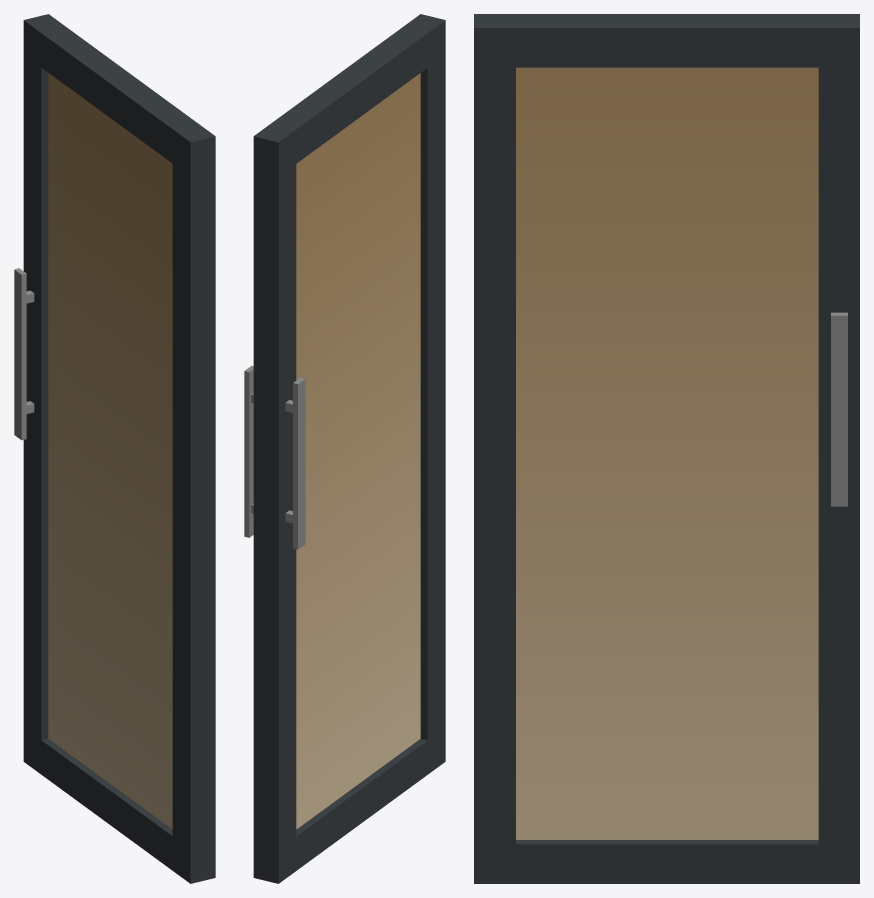
Rendered from SM_Buildings_CityMall_01_Door_R_02.fbx.
3 renders of one model, left to right at view 1: azimuth 30°, elevation 25°; view 2: azimuth 150°, elevation 25°; view 3: azimuth 270°, elevation 25°, orthographic. The views are drawn at different scales.
Parts seen in each view (by area): view 1: SM_Buildings_CityMall_01_Door_R_02; view 2: SM_Buildings_CityMall_01_Door_R_02; view 3: SM_Buildings_CityMall_01_Door_R_02.
Boxes of the visible parts, x1=… form: SM_Buildings_CityMall_01_Door_R_02: x1=14, y1=14, x2=215, y2=883; SM_Buildings_CityMall_01_Door_R_02: x1=244, y1=14, x2=445, y2=883; SM_Buildings_CityMall_01_Door_R_02: x1=474, y1=14, x2=859, y2=883.
Bounding box in the file's own units: 0.1866 × 2.45 × 1.
